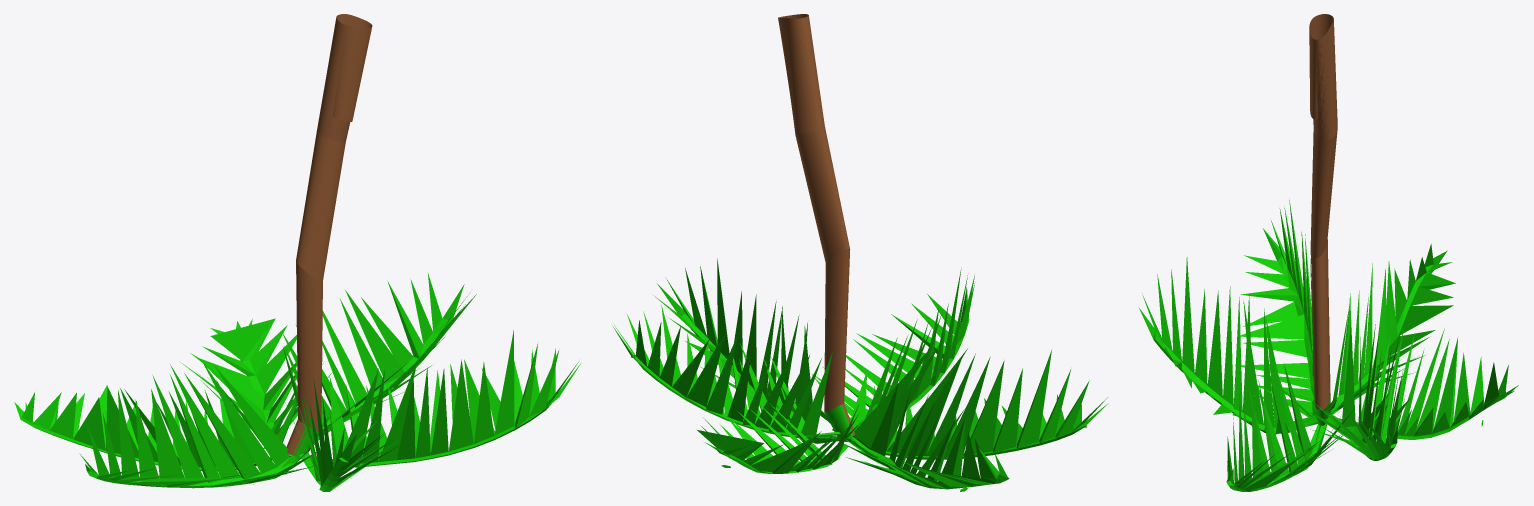
Rendered from palm.obj.
The picture shows the model from 3 angles, left to right: view 1: azimuth 30°, elevation 25°; view 2: azimuth 150°, elevation 25°; view 3: azimuth 270°, elevation 25°; orthographic projection. The views are drawn at different scales.
Parts seen in each view (by area): view 1: Sweep.7; view 2: Sweep.7; view 3: Sweep.7.
Part boxes in pixels (x1,y1,x2,y2): Sweep.7: (14, 14, 580, 491); Sweep.7: (613, 14, 1108, 491); Sweep.7: (1139, 14, 1518, 491).
Size of the model in its own units: 227 by 199 by 155.
